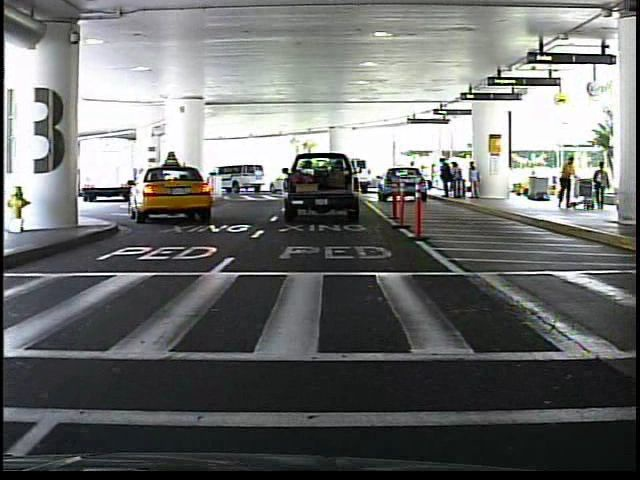person: (556, 154, 580, 213), (592, 158, 613, 212), (406, 158, 421, 193)
